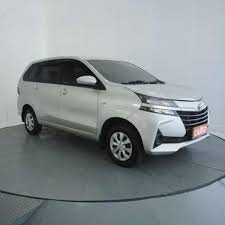mobil: (17, 54, 212, 164)
